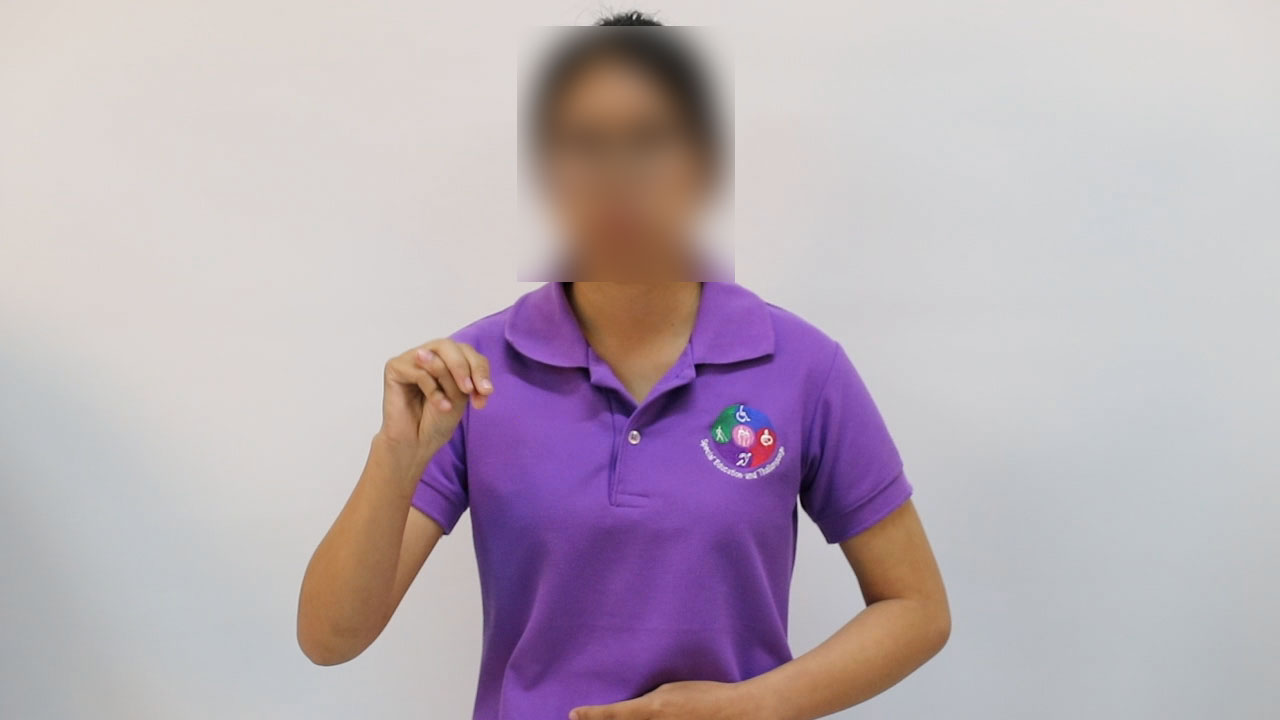mor: (348, 307, 499, 464)
